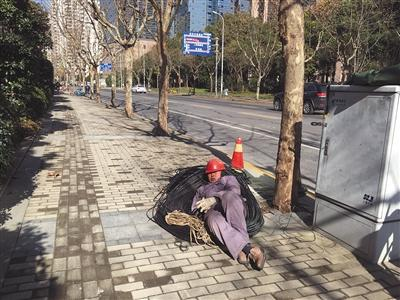fall: (171, 154, 273, 271)
